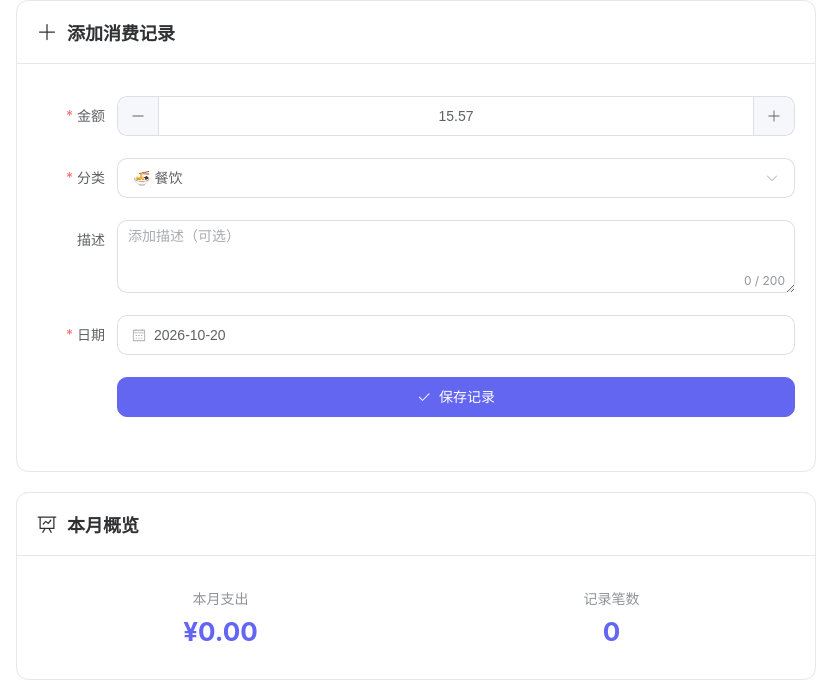
Test: ExpenseTab › 提交成功后表单清空（金额输入框变空）
Click the button "保存记录": (456, 397) [117,377,795,417]
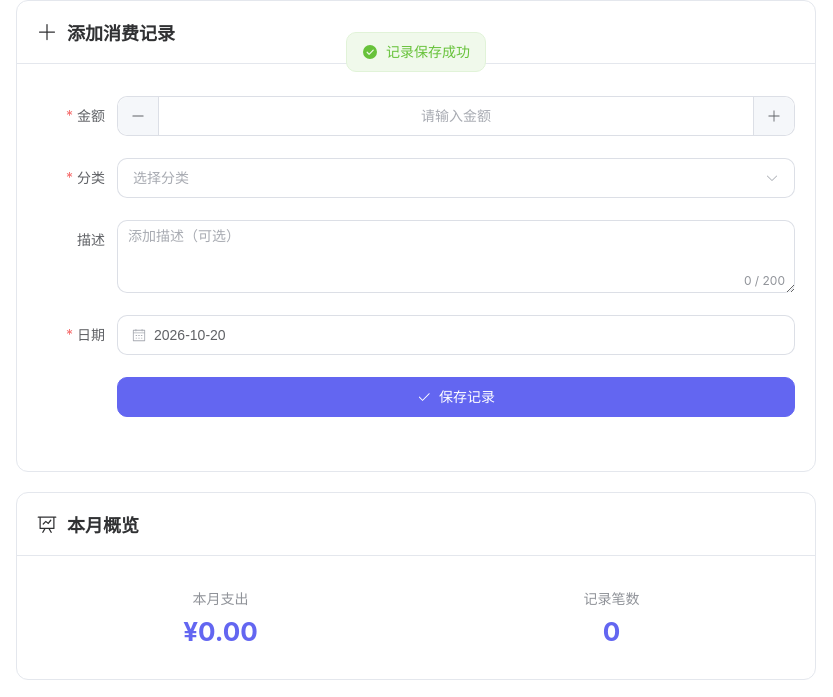
Expected: the number field labelled "金额" is empty, [164,97,748,135]
Expected: the text "记录保存成功" is shown, [386,45,470,59]
